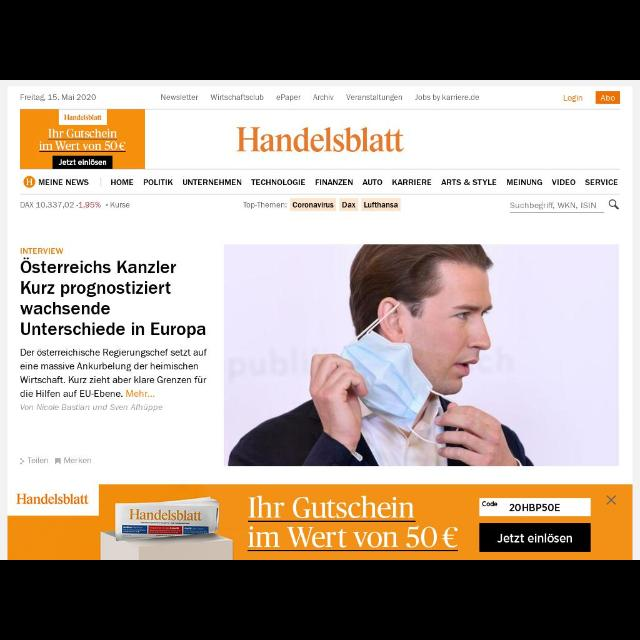icon: (609, 197, 619, 211), (607, 496, 617, 504), (55, 458, 61, 464), (20, 457, 24, 465)
iframe: (8, 486, 632, 558)
image: (224, 245, 618, 467), (23, 176, 34, 188)
input: (510, 199, 604, 213)
multitab: (21, 170, 622, 192), (5, 88, 632, 109)
text: (21, 258, 207, 334), (20, 348, 208, 398), (238, 126, 404, 154), (20, 404, 162, 412), (21, 201, 131, 209), (20, 92, 96, 102), (509, 202, 596, 210), (442, 178, 496, 188), (414, 94, 478, 102), (182, 179, 242, 187), (345, 94, 403, 102), (210, 94, 264, 102), (252, 178, 306, 186), (39, 178, 89, 186), (242, 201, 288, 209), (314, 179, 354, 187), (392, 179, 432, 187), (294, 200, 334, 208), (20, 248, 64, 255), (160, 94, 198, 102), (505, 178, 543, 186), (363, 200, 399, 208), (584, 178, 618, 186), (143, 178, 173, 186), (63, 456, 91, 464), (275, 94, 301, 102), (550, 178, 576, 186), (110, 178, 134, 186), (312, 92, 333, 101), (28, 456, 48, 464), (562, 95, 584, 102), (362, 180, 382, 187), (342, 201, 356, 209), (600, 95, 614, 102)
textbutton: (596, 92, 620, 105)
